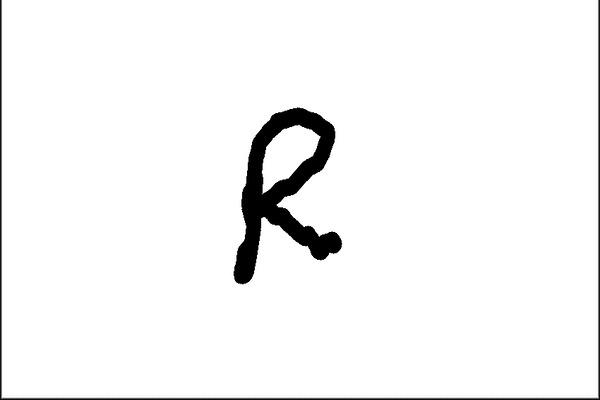R: (219, 98, 355, 296)
